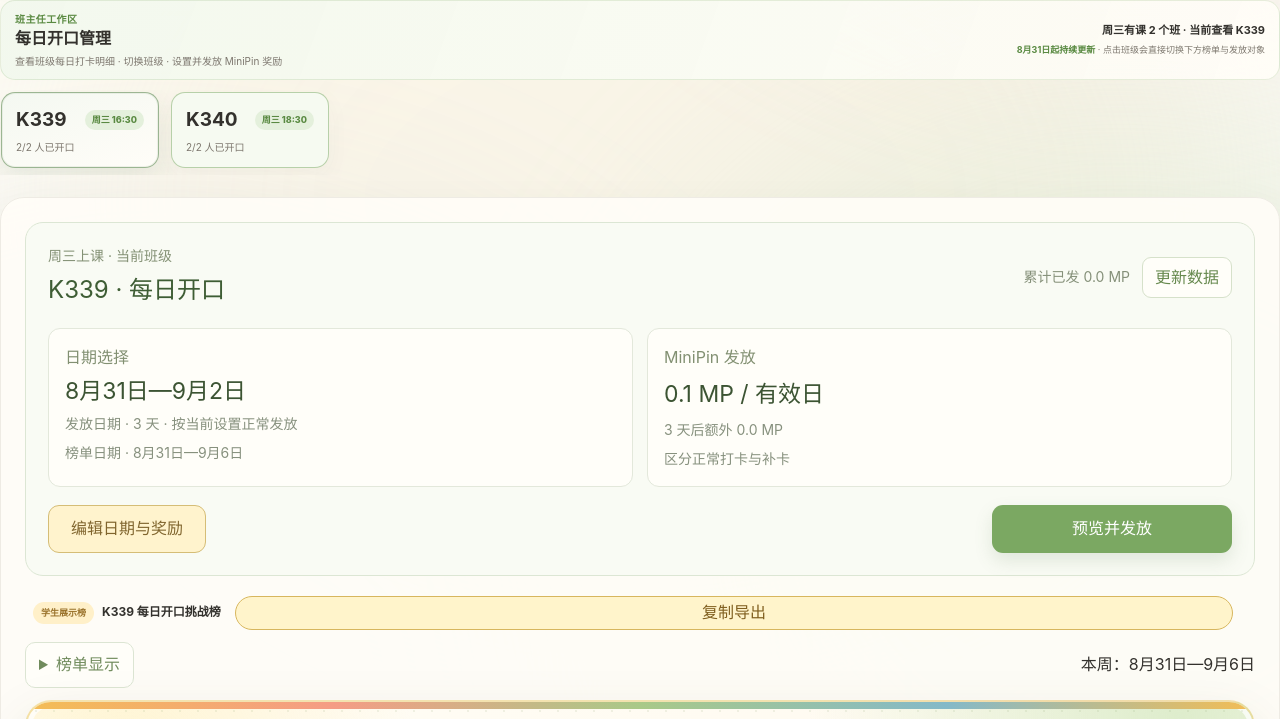
Test: SpeakingChallengeApp › previews rewards only for the currently selected class
Click the button with class "speaking-challenge__class-card" showing "K340 周三 18:30 2/2 人已开口": click(250, 130) [171, 92, 329, 168]
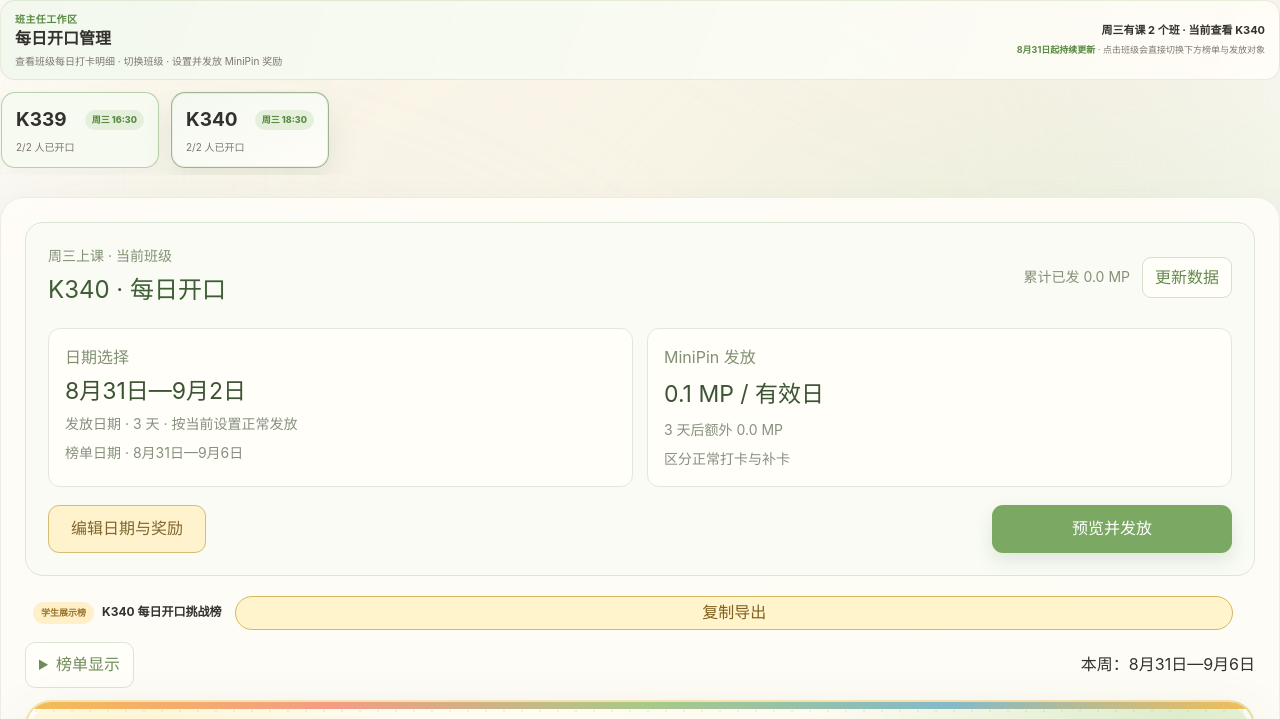
Click the button "预览并发放": click(1112, 529) [992, 505, 1232, 553]
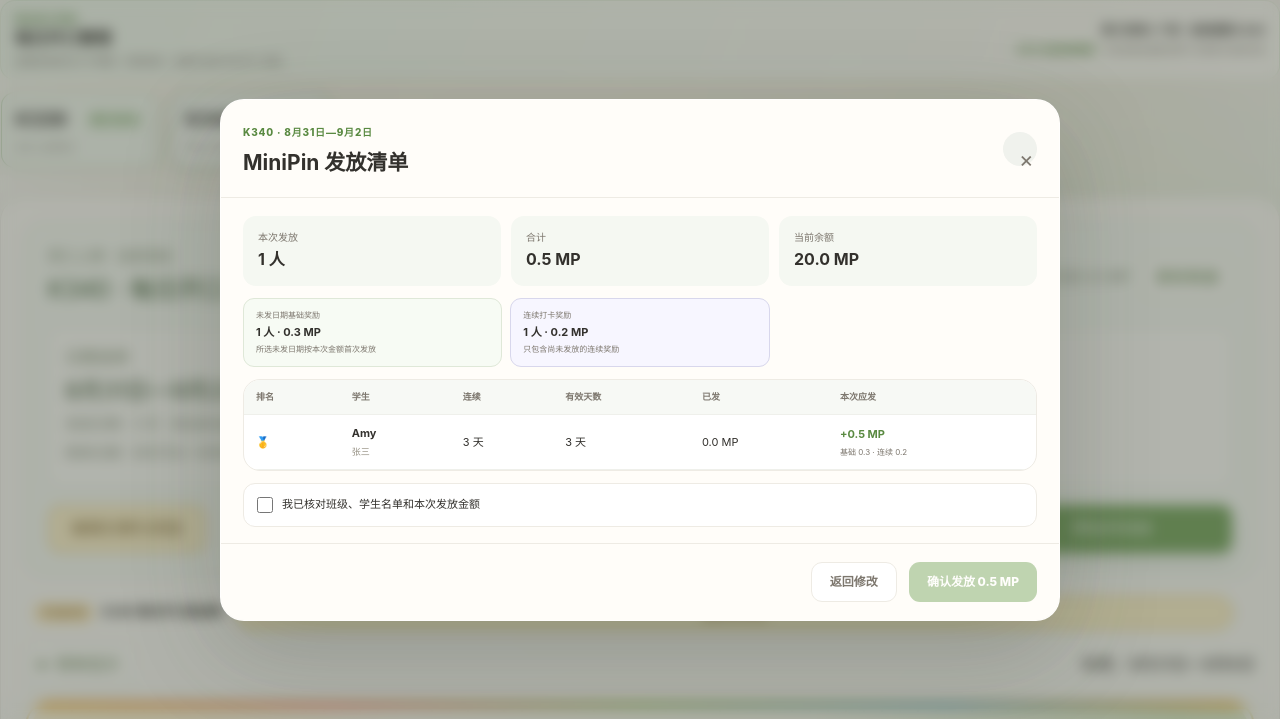
Expected: the text "K339" is not shown
Expected: the dialog shows "K340", [243, 126, 274, 138]
Expected: the dialog shows "未发日期基础奖励", [256, 310, 320, 320]
